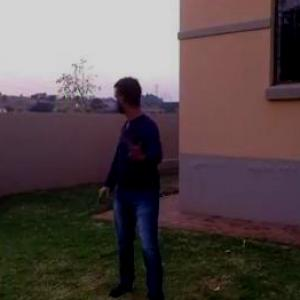takeoff-hand: (123, 128, 150, 162)
